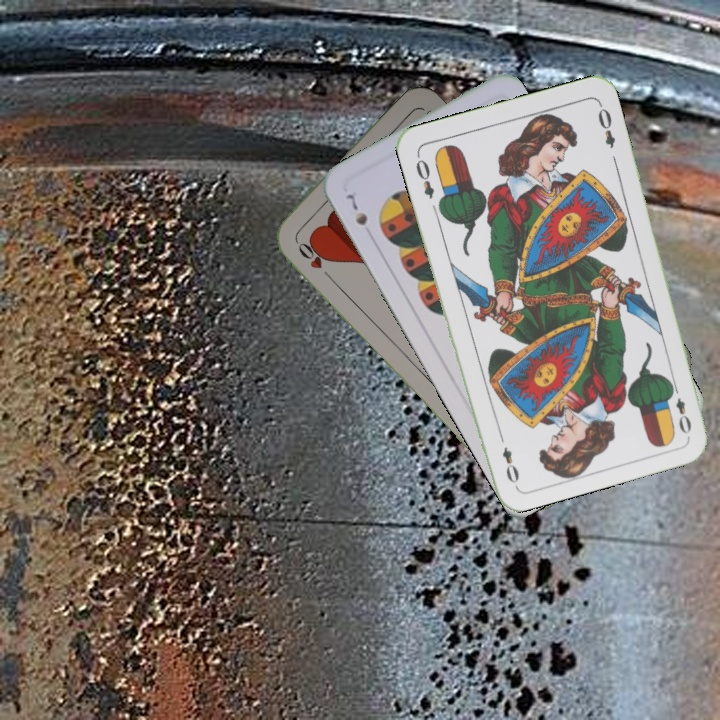EO: (666, 379, 694, 437), (411, 150, 437, 202)
HO: (290, 235, 335, 283)
S7: (342, 189, 370, 229)
